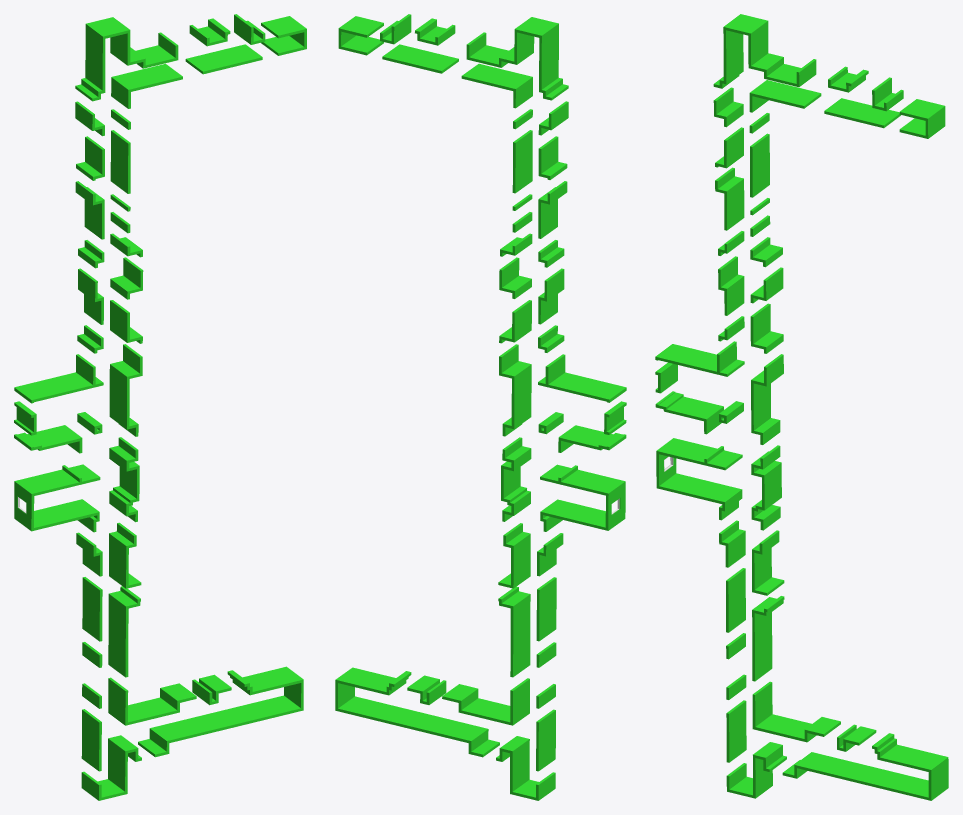
File: UT_HALL2.dae
3 renders of one model, left to right at view 1: azimuth 30°, elevation 25°; view 2: azimuth 150°, elevation 25°; view 3: azimuth 330°, elevation 25°, orthographic.
Visible parts, largest first — view 1: node0; view 2: node0; view 3: node0.
Boxes of the visible parts, x1,y1,x2,y2 form: node0: (14, 14, 306, 800); node0: (335, 14, 626, 800); node0: (655, 14, 948, 800).
Bounding box in the file's own units: 21.1 × 2.79 × 56.47.
